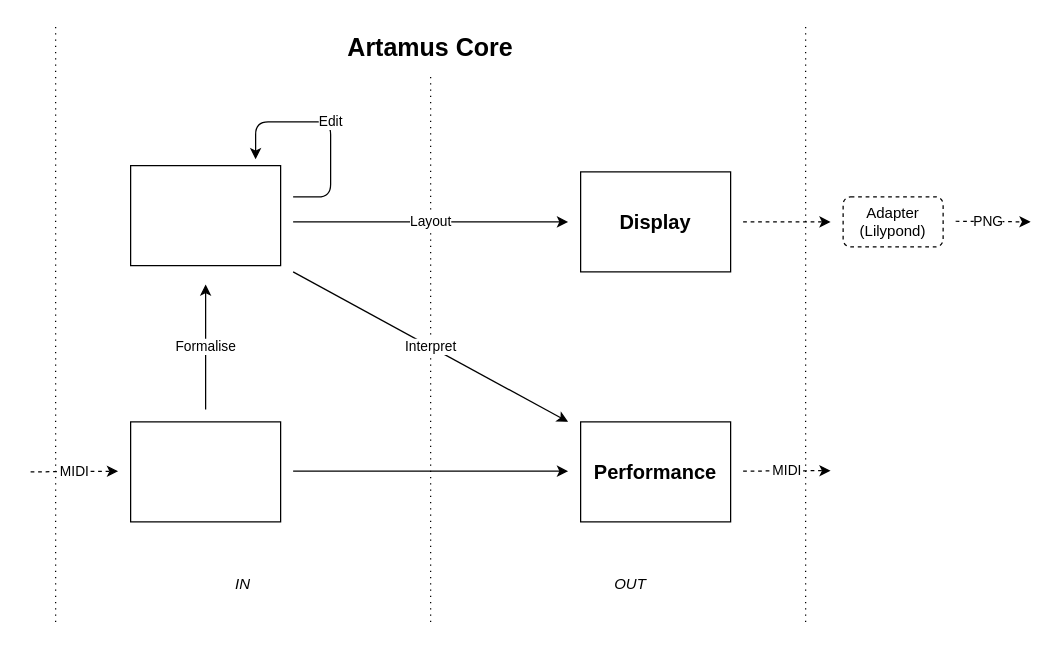
Image size: 1063x645. Some labels were removed from this diagram. Each missing label, with the centre of its shape:
"Recording" goes at [205,471].
"Track" goes at [205,215].
